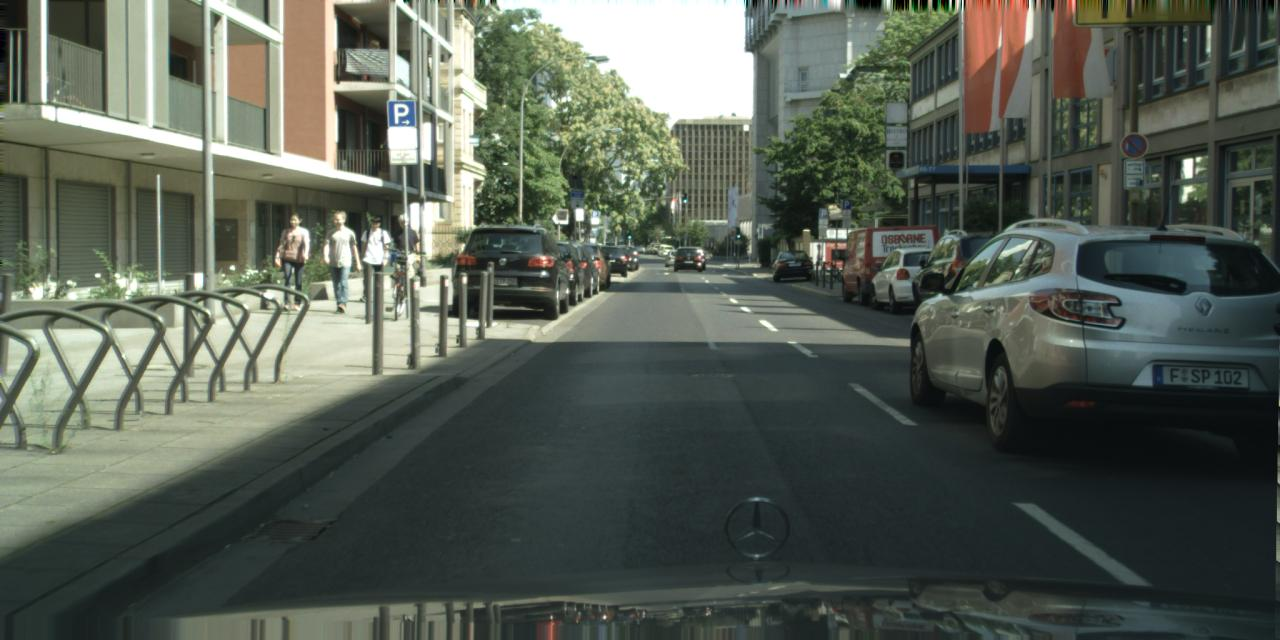ped: (318, 209, 360, 313), (273, 212, 313, 310), (388, 212, 423, 297), (357, 216, 391, 301)
